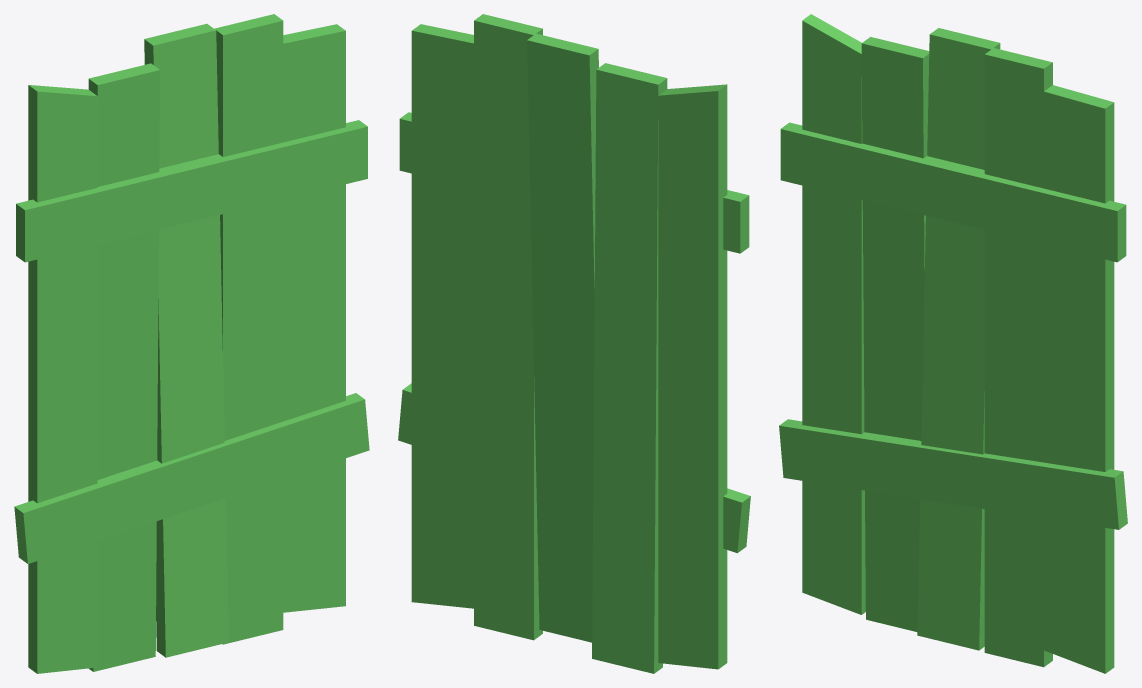
File: Gen_Window_Barred1.fbx
3 views of the same model, side by side, from view 1: azimuth 30°, elevation 25°; view 2: azimuth 150°, elevation 25°; view 3: azimuth 330°, elevation 25° (orthographic).
Parts seen in each view (by area): view 1: Gen_Window_Barred1; view 2: Gen_Window_Barred1; view 3: Gen_Window_Barred1.
Boxes of the visible parts, box(x1,y1,x2,y2) form: Gen_Window_Barred1: box(14, 14, 369, 673); Gen_Window_Barred1: box(398, 14, 750, 673); Gen_Window_Barred1: box(779, 14, 1127, 673).
Size of the model in its own units: 165 by 278 by 17.86.
